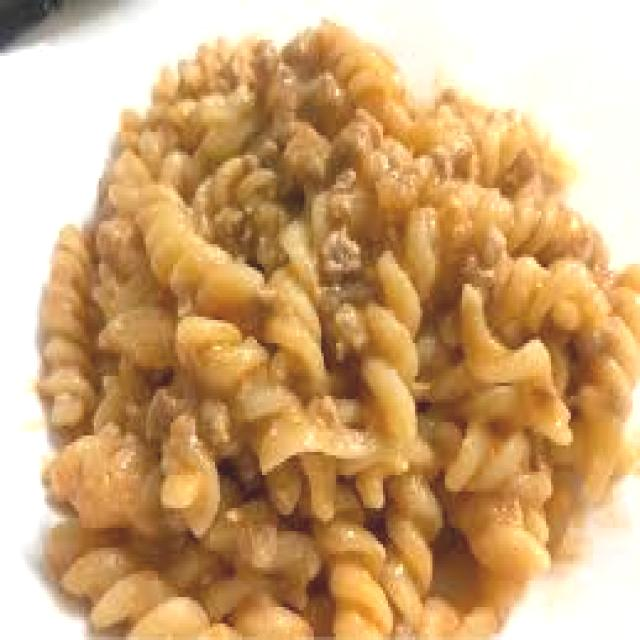pasta: (136, 125, 491, 495), (69, 210, 192, 352)
